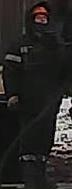gloves: (5, 92, 22, 110)
helmet: (25, 0, 53, 17)
vest: (14, 28, 64, 114)
